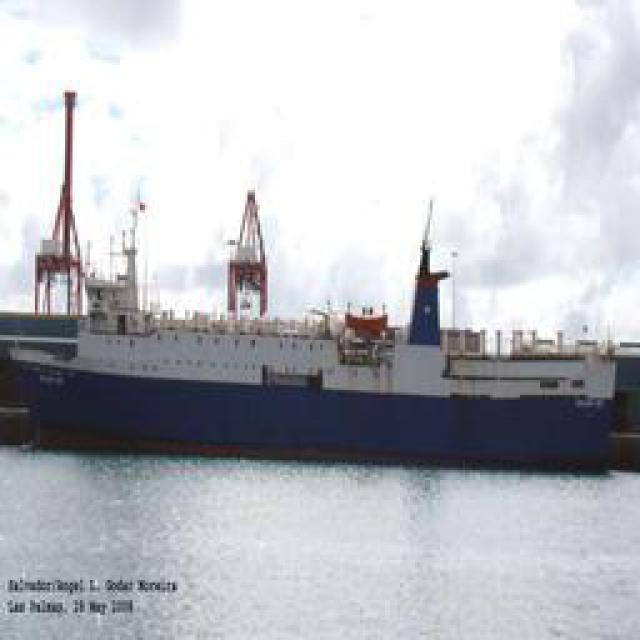Ship: (11, 280, 631, 468)
